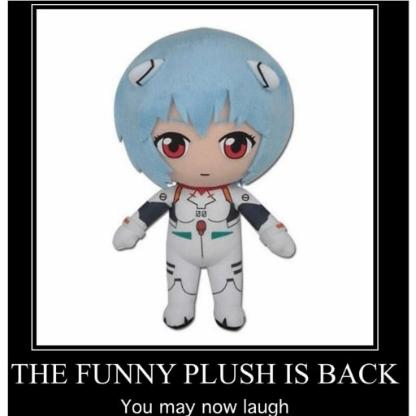rei-plush: (110, 23, 302, 330)
